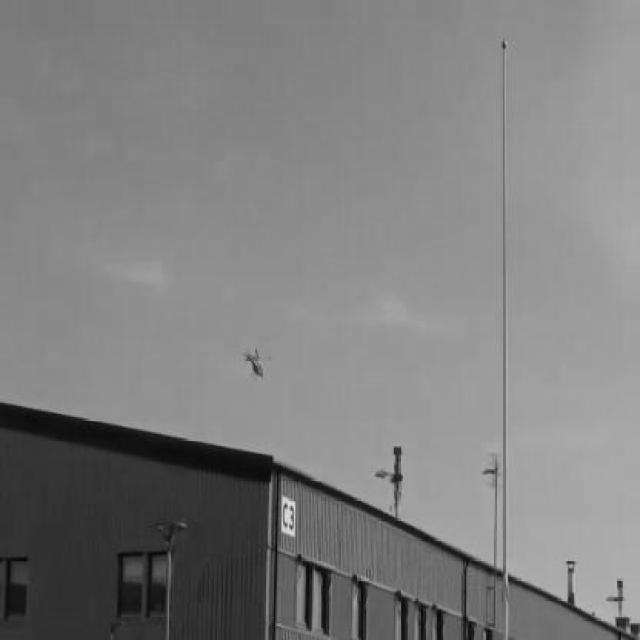helikopter: (239, 344, 273, 382)
